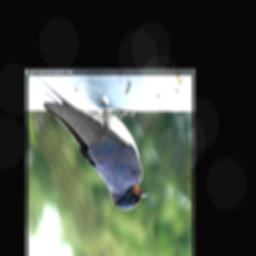Swallow: (30, 70, 150, 211)
